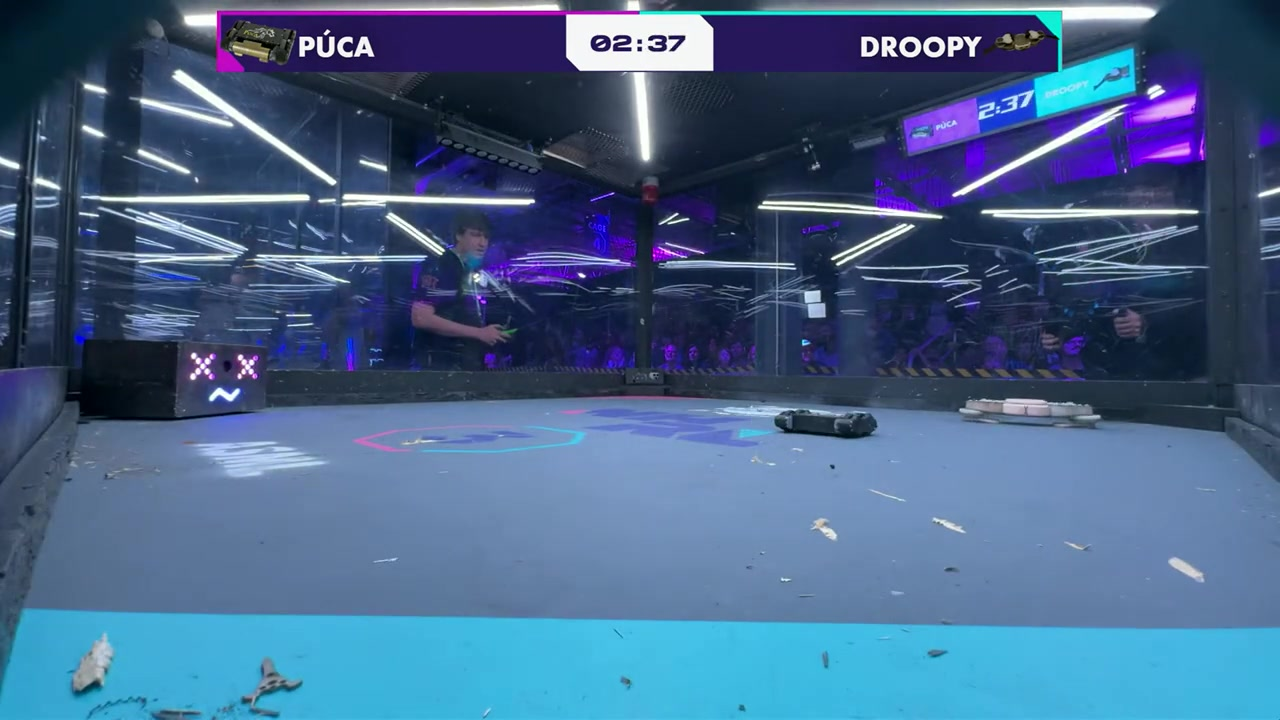combatbot: (775, 409, 878, 439), (963, 399, 1092, 420)
housebot: (81, 339, 267, 421)
